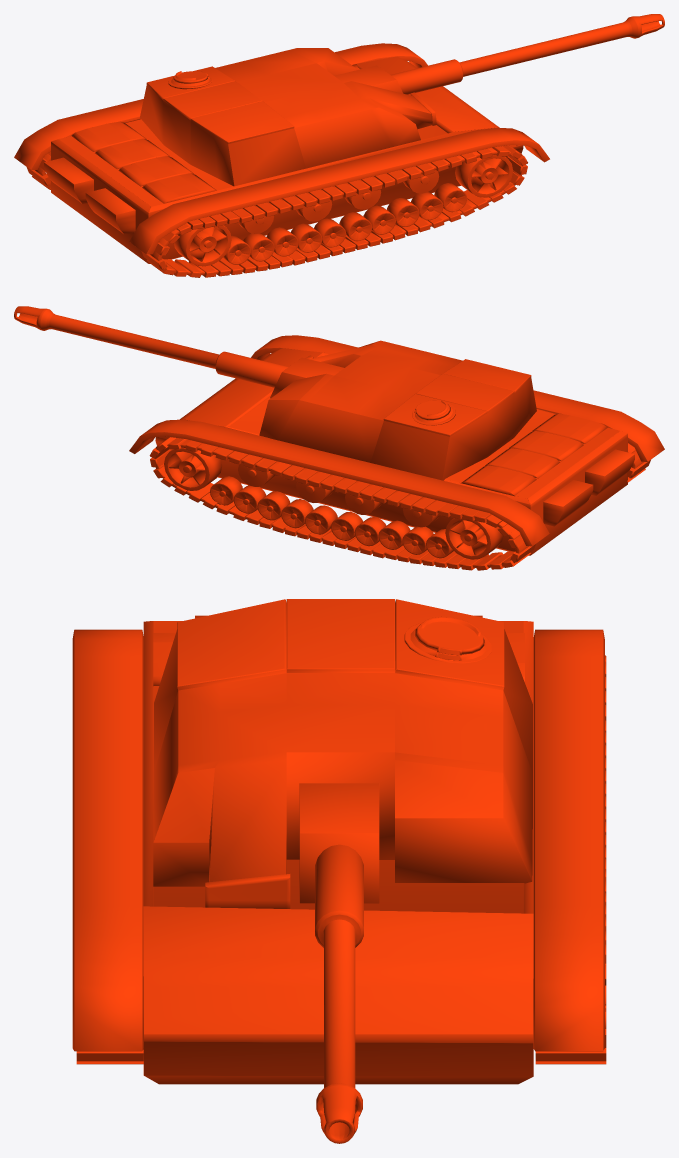
The model's file is guchuck_1.fbx.
3 renders of one model, top to bottom at view 1: azimuth 30°, elevation 25°; view 2: azimuth 150°, elevation 25°; view 3: azimuth 270°, elevation 25°, orthographic. The views are drawn at different scales.
Parts seen in each view (by area): view 1: Box025; view 2: Box025; view 3: Box025.
Boxes of the visible parts, <box> form: Box025: <box>14,14,664,277</box>; Box025: <box>14,306,664,570</box>; Box025: <box>72,599,606,1143</box>.
Bounding box in the file's own units: 17.13 × 3.59 × 6.81.
